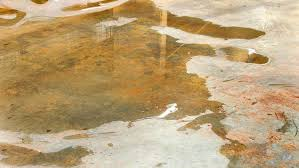Wet-floor: (1, 3, 281, 132), (0, 140, 122, 168)
